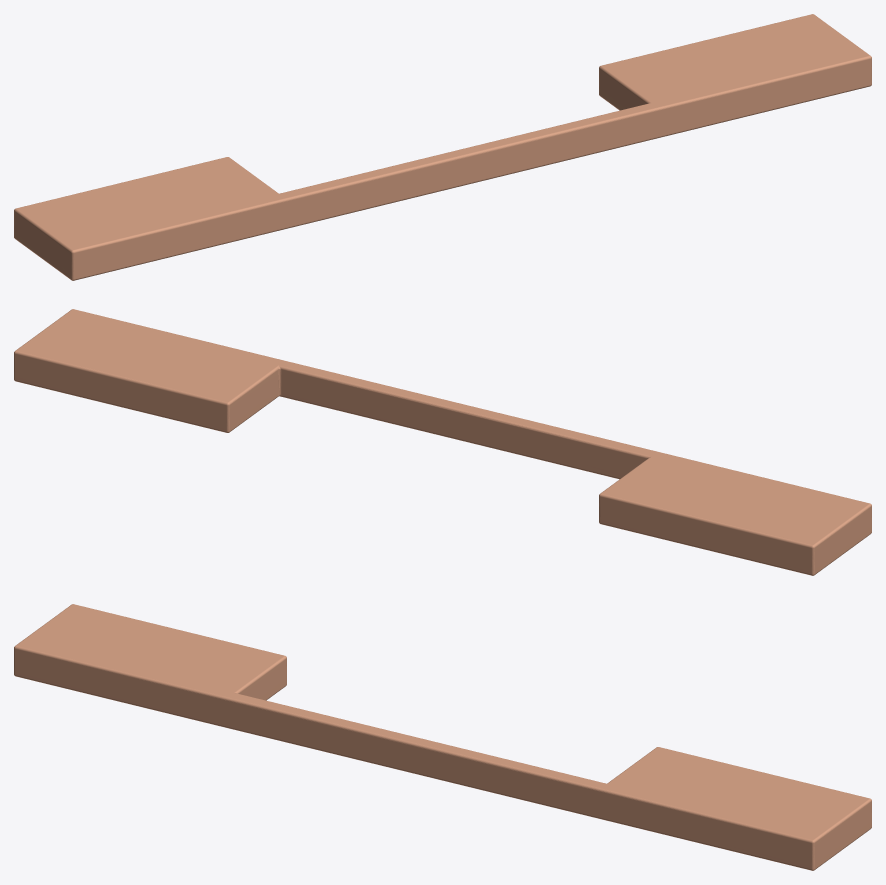
File: eurofit-h-254-160sb-v3.glb
The picture shows the model from 3 angles, top to bottom: view 1: azimuth 30°, elevation 25°; view 2: azimuth 150°, elevation 25°; view 3: azimuth 330°, elevation 25°; orthographic projection.
Parts seen in each view (by area): view 1: Continuous U grip and legs; view 2: Continuous U grip and legs; view 3: Continuous U grip and legs.
Part boxes in pixels (x1,y1,x2,y2): Continuous U grip and legs: [14, 14, 871, 280]; Continuous U grip and legs: [14, 309, 871, 575]; Continuous U grip and legs: [14, 604, 871, 870].
Size of the model in its own units: 0.219 by 0.008 by 0.028.
